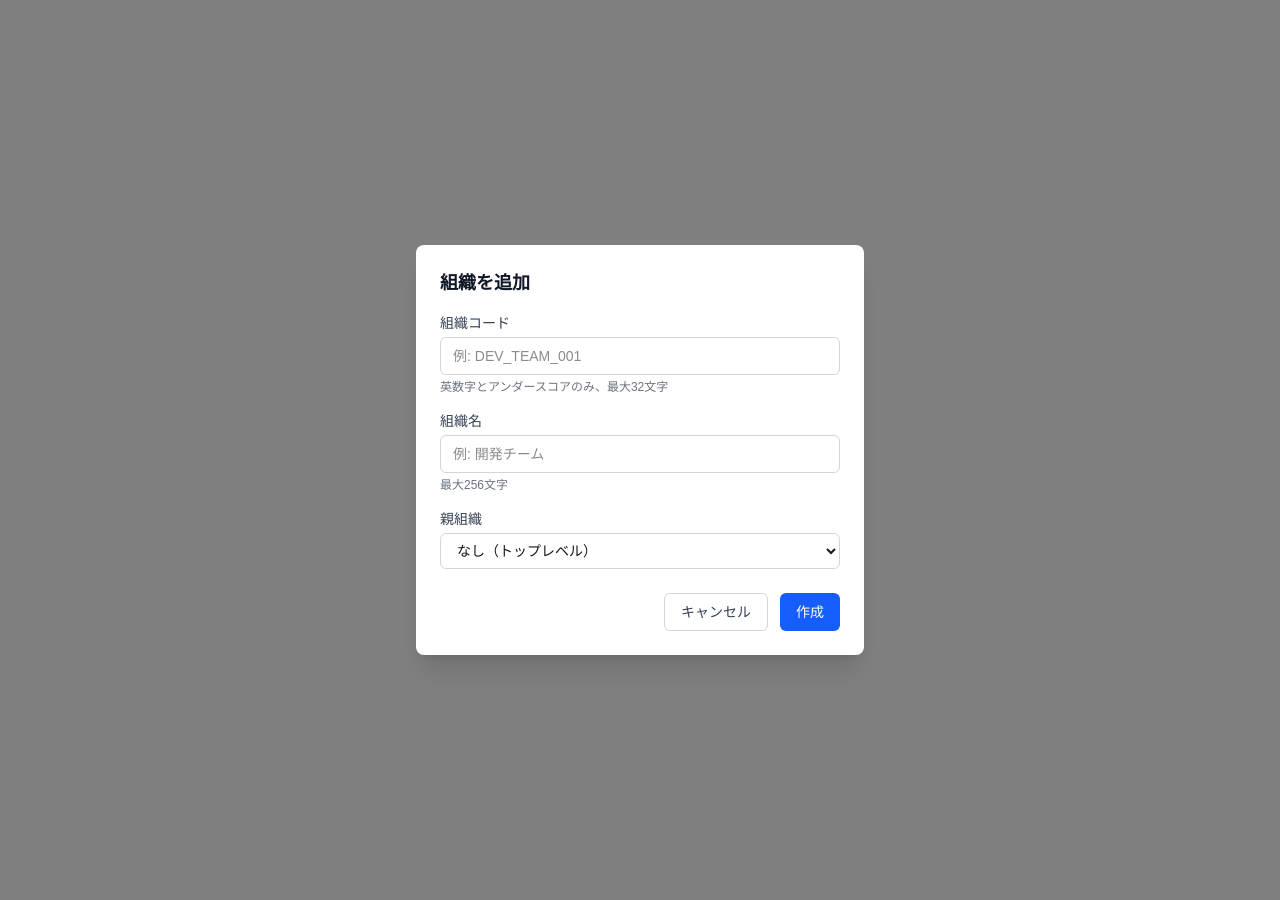
Test case: OrganizationForm › shows API error message on failure
In the field labelled "組織コード": (640, 356) [440, 337, 840, 375], type "DUP"
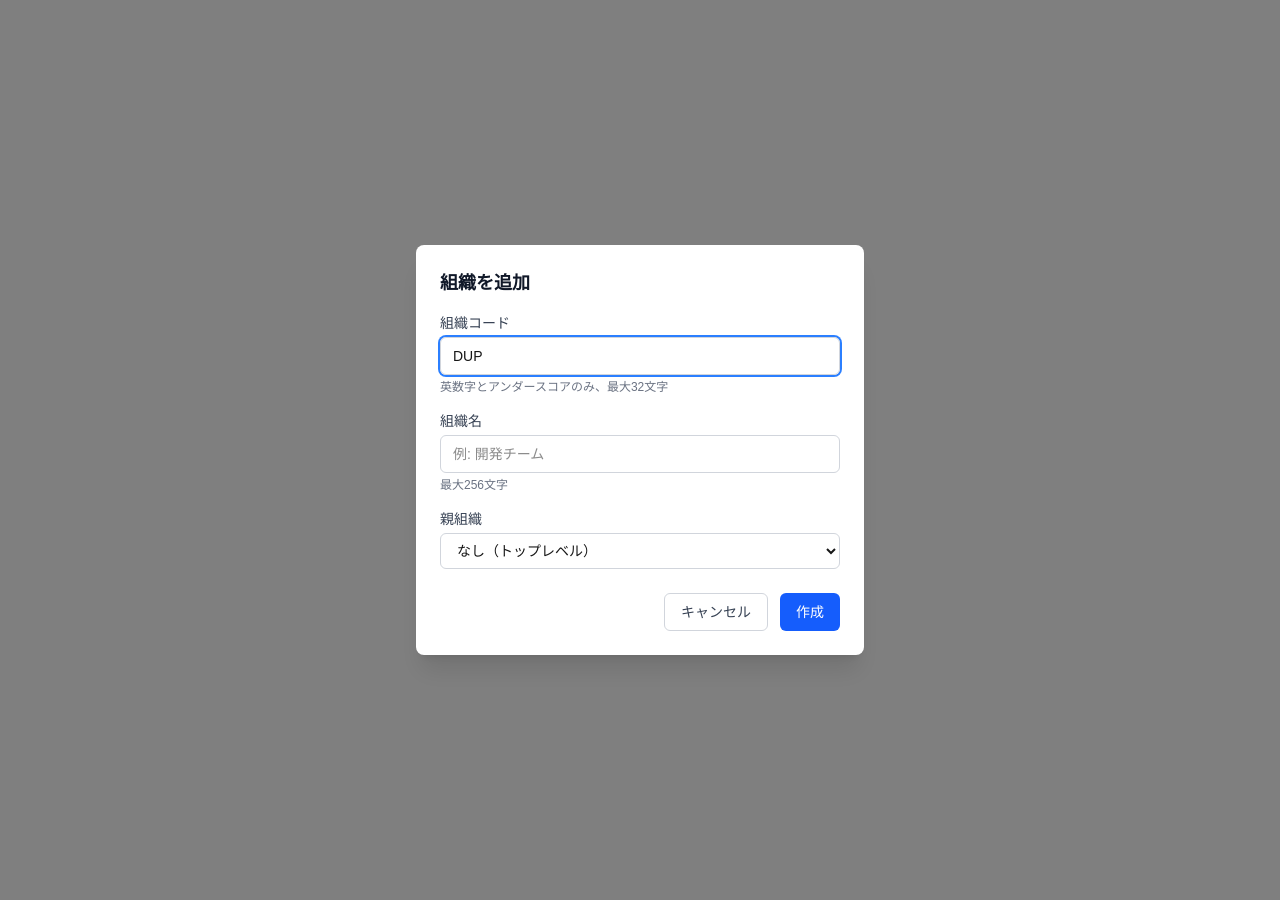
In the field labelled "組織名": (640, 454) [440, 435, 840, 473], type "Duplicate"
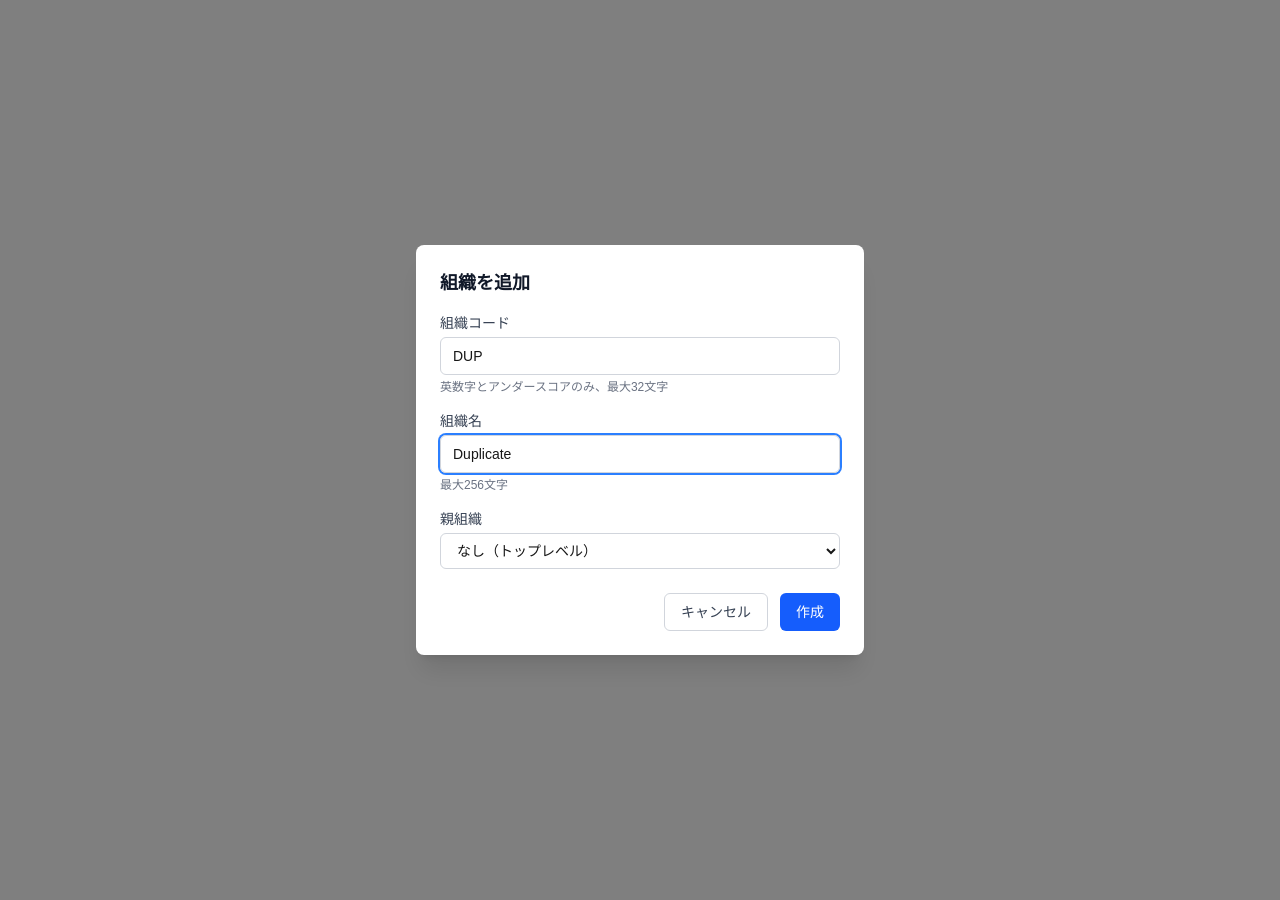
Click the button "作成": (810, 612) [780, 593, 840, 631]
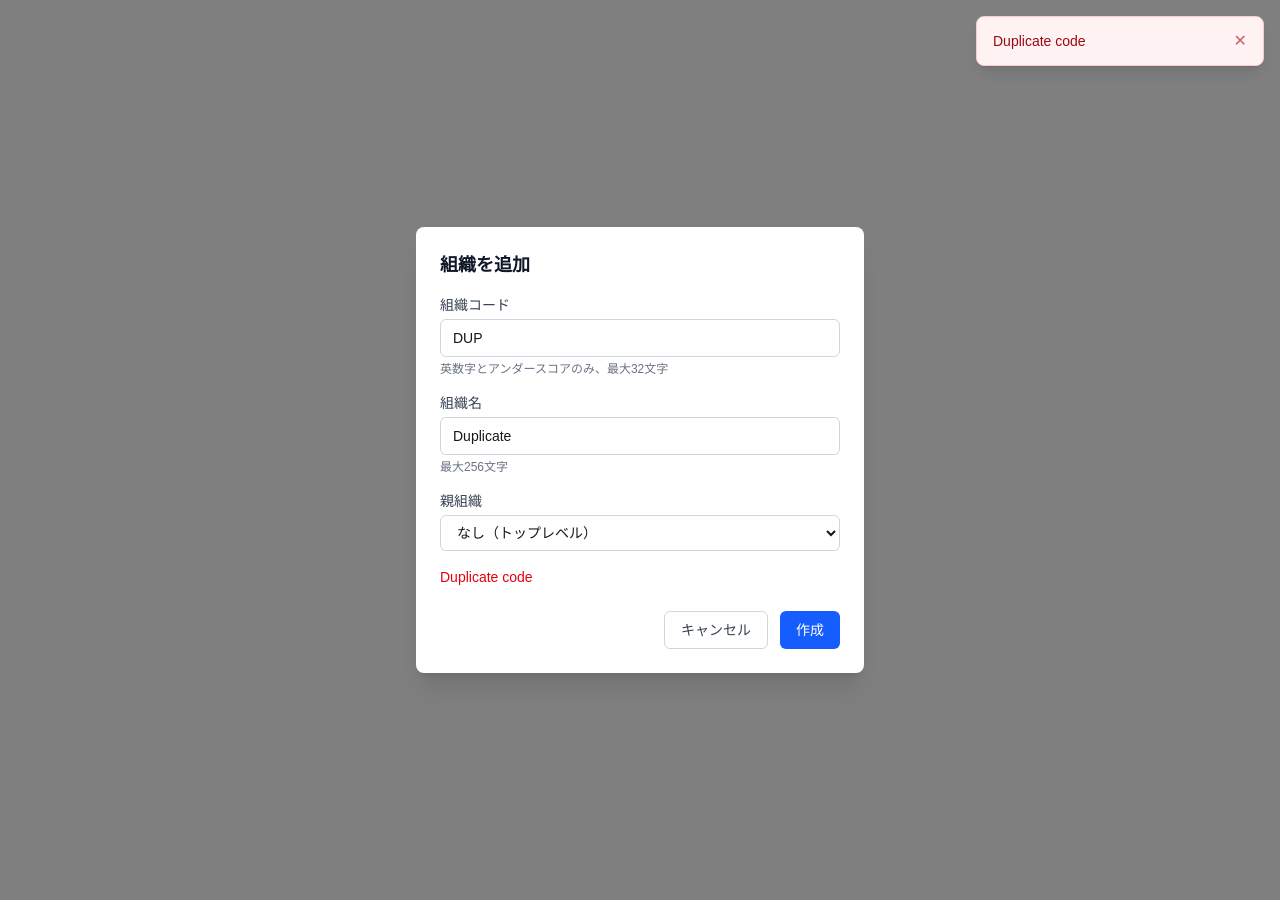
Now the text "Duplicate code" below "親組織" is shown, box [440, 569, 533, 585]
